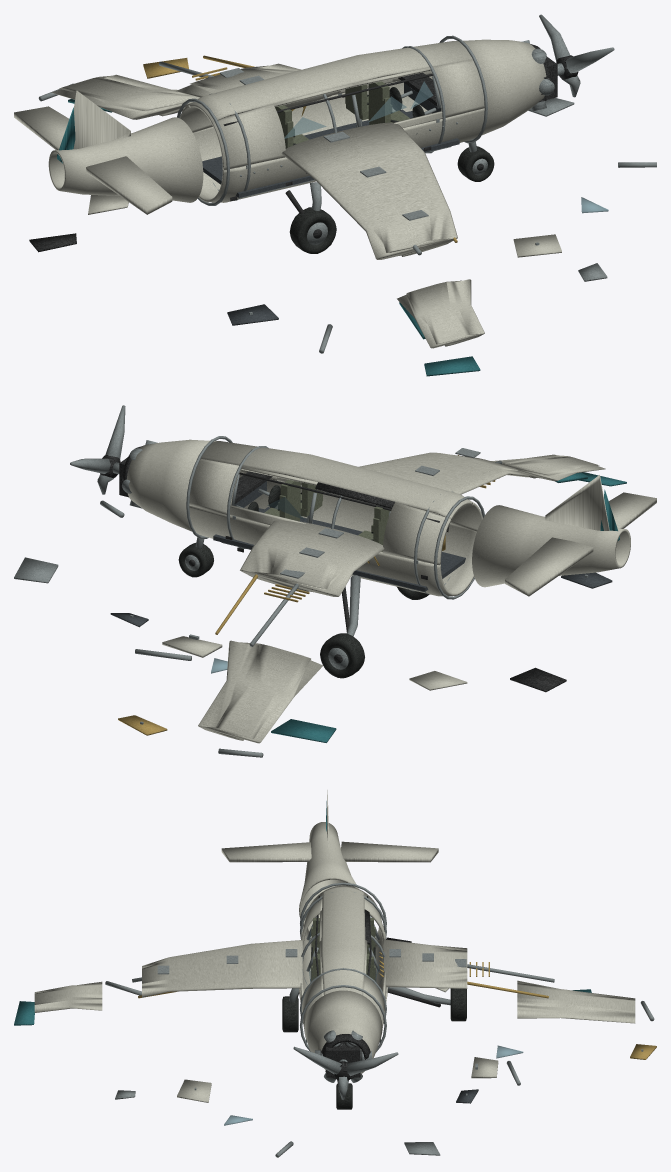
File: PROJECT_Z_Mistral_AR6_Wrecked_Aircraft.glb
3 views of the same model, one above another, from view 1: azimuth 30°, elevation 25°; view 2: azimuth 150°, elevation 25°; view 3: azimuth 270°, elevation 25° (orthographic). The views are drawn at different scales.
Visible parts, largest first — view 1: PORT_MainWing_DamagedRoot, Tail_Boom_Severed_Hollow, Fuselage_Ventral_Shell_Low, Fuselage_Roof_Crown, Nose_Crumple_Forecone, PORT_Wing_SeveredTip, STARBOARD_FallenOuterWing, Port_Fuselage_Upper_-2.1, Horizontal_Stabilizer_Port, Port_Fuselage_Upper_1.75, Vertical_Stabilizer, STARBOARD_Inboard_Wing_Cracked (+16 smaller); view 2: STARBOARD_FallenOuterWing, Fuselage_Ventral_Shell_Low, Tail_Boom_Severed_Hollow, STARBOARD_Inboard_Wing_Cracked, Fuselage_Roof_Crown, Nose_Crumple_Forecone, PORT_MainWing_DamagedRoot, Starboard_Fuselage_Upper_-2.1, Horizontal_Stabilizer_Starboard, Starboard_Fuselage_Upper_1.74, Vertical_Stabilizer, PORT_Wing_SeveredTip (+18 smaller); view 3: PORT_MainWing_DamagedRoot, Fuselage_Roof_Crown, STARBOARD_FallenOuterWing, STARBOARD_Inboard_Wing_Cracked, Nose_Crumple_Forecone, Tail_Boom_Severed_Hollow, Horizontal_Stabilizer_Starboard, PORT_Wing_SeveredTip, Horizontal_Stabilizer_Port, Fuselage_Ventral_Shell_Low, Wing_Skin_Shard_A, Engine_Crankcase_Core (+3 smaller).
Boxes of the visible parts, bbox=[...] form: PORT_MainWing_DamagedRoot: bbox=[281, 122, 457, 259]; Tail_Boom_Severed_Hollow: bbox=[48, 117, 203, 202]; Fuselage_Ventral_Shell_Low: bbox=[193, 76, 484, 202]; Fuselage_Roof_Crown: bbox=[189, 41, 472, 123]; Nose_Crumple_Forecone: bbox=[456, 39, 546, 135]; PORT_Wing_SeveredTip: bbox=[397, 279, 484, 348]; STARBOARD_FallenOuterWing: bbox=[51, 74, 199, 119]; Port_Fuselage_Upper_-2.1: bbox=[212, 104, 285, 170]; Horizontal_Stabilizer_Port: bbox=[86, 156, 172, 214]; Port_Fuselage_Upper_1.75: bbox=[431, 59, 484, 117]; Vertical_Stabilizer: bbox=[73, 90, 130, 149]; STARBOARD_Inboard_Wing_Cracked: bbox=[176, 63, 340, 115]; STARBOARD_FallenOuterWing: bbox=[198, 640, 323, 743]; Fuselage_Ventral_Shell_Low: bbox=[189, 474, 476, 596]; Tail_Boom_Severed_Hollow: bbox=[472, 505, 630, 587]; STARBOARD_Inboard_Wing_Cracked: bbox=[240, 520, 384, 596]; Fuselage_Roof_Crown: bbox=[201, 441, 472, 520]; Nose_Crumple_Forecone: bbox=[126, 439, 216, 531]; PORT_MainWing_DamagedRoot: bbox=[339, 452, 531, 504]; Starboard_Fuselage_Upper_-2.1: bbox=[382, 502, 451, 565]; Horizontal_Stabilizer_Starboard: bbox=[505, 537, 593, 596]; Starboard_Fuselage_Upper_1.74: bbox=[189, 459, 241, 514]; Vertical_Stabilizer: bbox=[545, 475, 609, 530]; PORT_Wing_SeveredTip: bbox=[491, 454, 605, 481]; PORT_MainWing_DamagedRoot: bbox=[142, 940, 302, 997]; Fuselage_Roof_Crown: bbox=[321, 886, 365, 995]; STARBOARD_FallenOuterWing: bbox=[517, 980, 635, 1023]; STARBOARD_Inboard_Wing_Cracked: bbox=[384, 939, 467, 988]; Nose_Crumple_Forecone: bbox=[304, 990, 382, 1073]; Tail_Boom_Severed_Hollow: bbox=[299, 822, 358, 931]; Horizontal_Stabilizer_Starboard: bbox=[340, 841, 438, 862]; PORT_Wing_SeveredTip: bbox=[34, 981, 102, 1012]; Horizontal_Stabilizer_Port: bbox=[221, 842, 311, 862]; Fuselage_Ventral_Shell_Low: bbox=[299, 925, 387, 1049]; Wing_Skin_Shard_A: bbox=[177, 1079, 211, 1102]; Engine_Crankcase_Core: bbox=[326, 1042, 360, 1077].
Size of the model in its own units: 10.16 by 3.34 by 12.16.
Materials: 10 (10 with a texture image).
